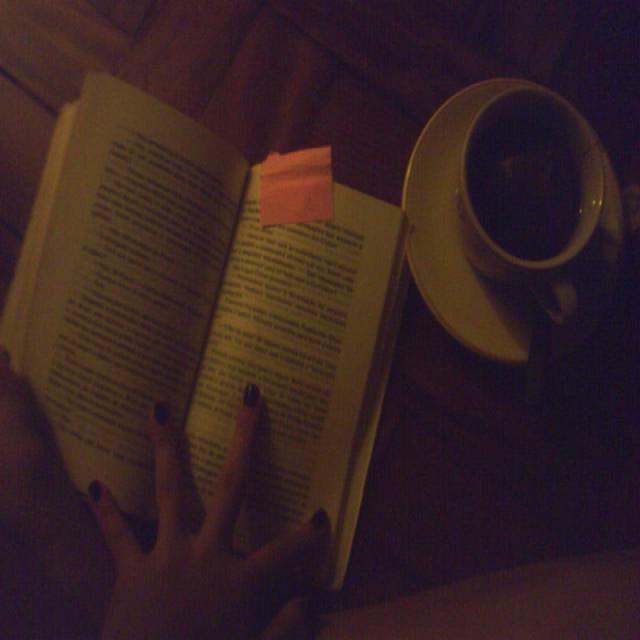Cup: (410, 70, 640, 420)
People: (0, 367, 350, 640)
